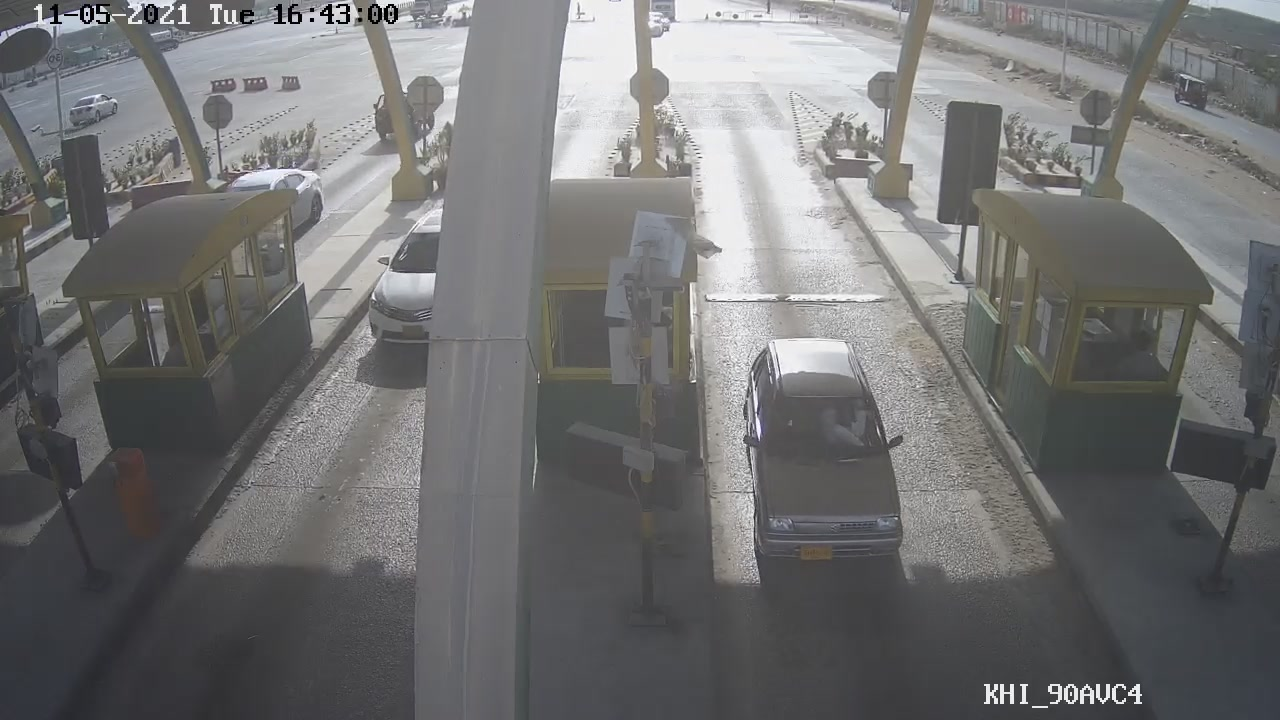F1: (725, 323, 918, 569)
